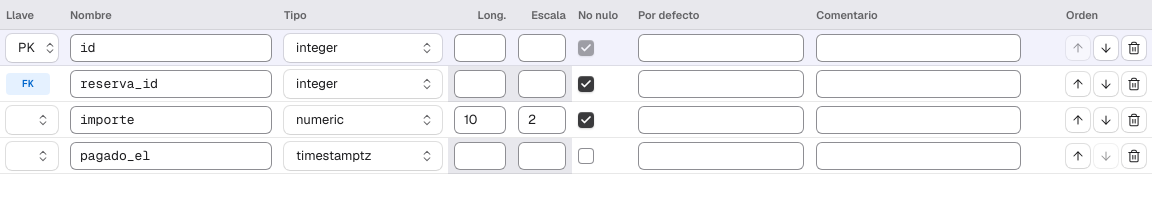
Test: FieldsGrid › una escala mayor que la longitud se avisa y no se guarda (FR-016)
Replace the text in the field named "Escala de importe" with "40" at (542, 120), box top-left (526, 106), bottom-right (558, 134)
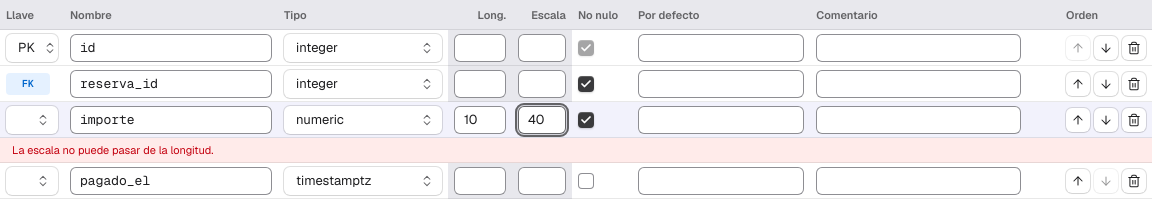
Expected: the message reads "La escala no puede pasar de la longitud.", top-left (12, 143), bottom-right (214, 157)
